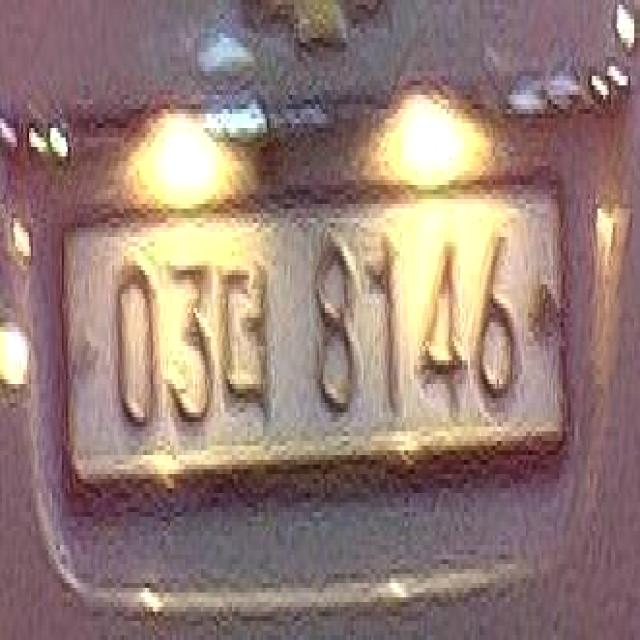illegal_plate: (63, 182, 563, 508)
